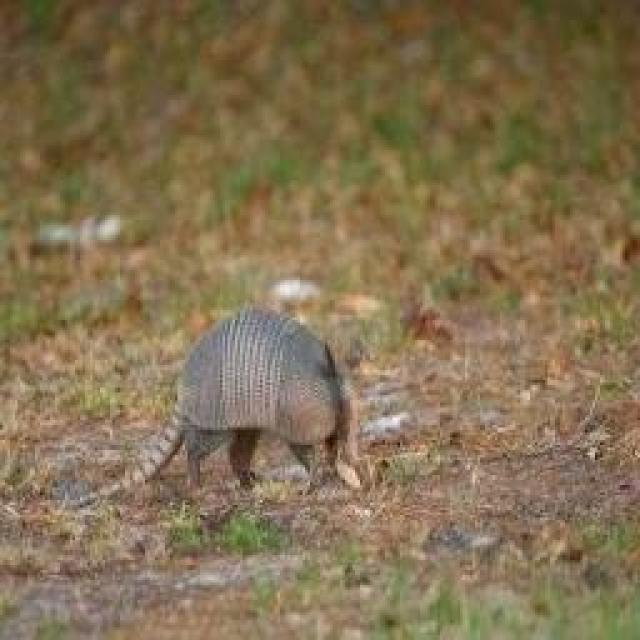not_pig: (93, 290, 366, 490)
